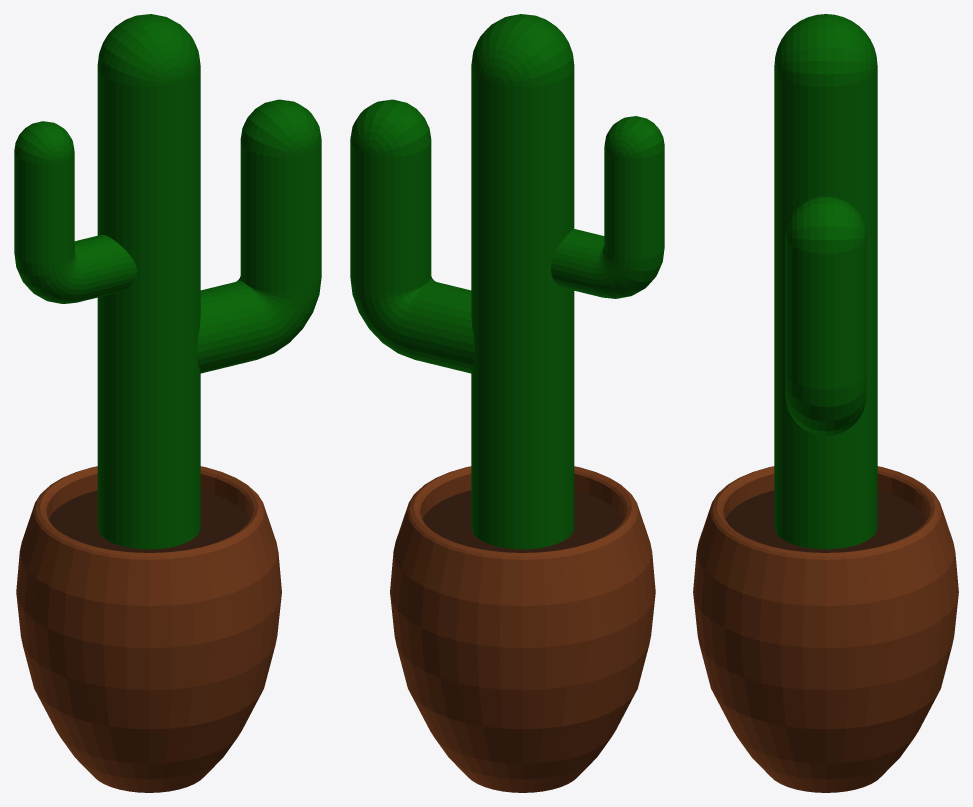
The model's file is pot_cactus.glb.
3 renders of one model, left to right at view 1: azimuth 30°, elevation 25°; view 2: azimuth 150°, elevation 25°; view 3: azimuth 270°, elevation 25°, orthographic.
Visible parts, largest first — view 1: Cylinder; view 2: Cylinder; view 3: Cylinder.
Part boxes in pixels (x1,y1,x2,y2): Cylinder: (14, 14, 321, 792); Cylinder: (350, 14, 664, 792); Cylinder: (693, 14, 958, 792).
Size of the model in its own units: 1.47 by 3.5 by 1.12.
3 materials, 3 textured.
